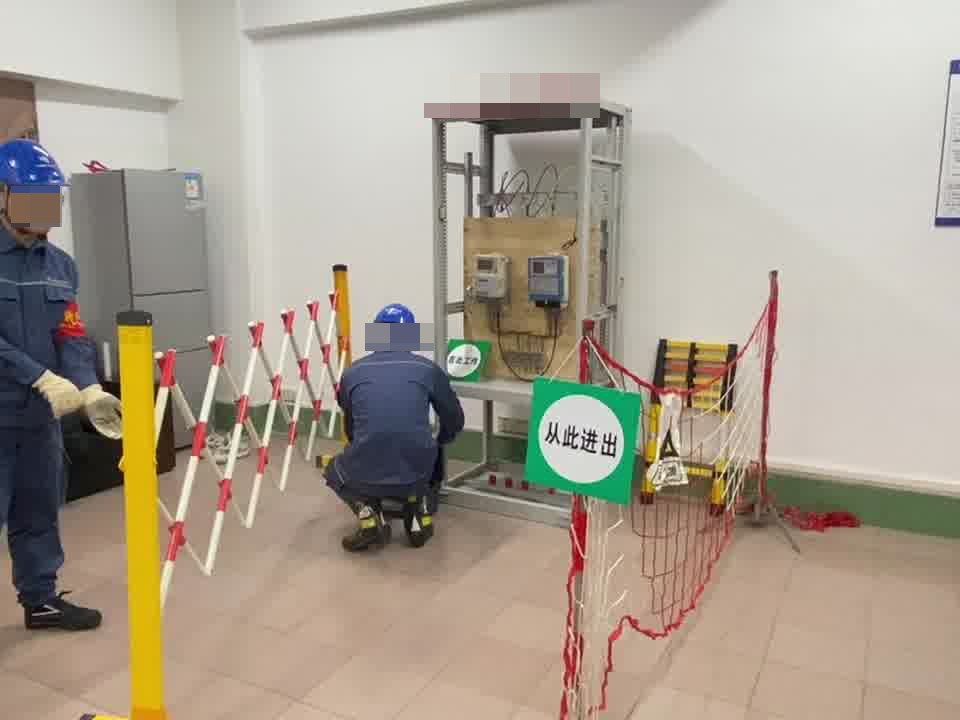badge: (57, 299, 91, 342)
downsuit: (1, 422, 71, 605)
halt: (1, 139, 70, 242), (371, 303, 420, 348)
intosign: (529, 378, 632, 498)
person: (1, 134, 117, 636), (328, 302, 463, 522)
shoe: (344, 496, 391, 552), (399, 499, 438, 547)
upsuit: (332, 347, 460, 502), (1, 238, 110, 409)
wglove: (82, 382, 122, 437), (33, 369, 80, 415)
worksign: (449, 339, 488, 382)
